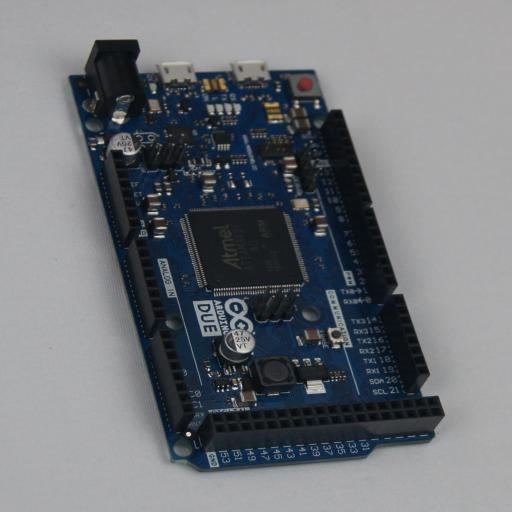Arduino Due: (68, 40, 445, 472)
